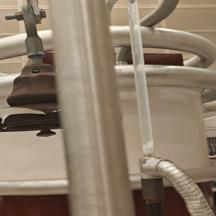insulator: (0, 55, 140, 152)
